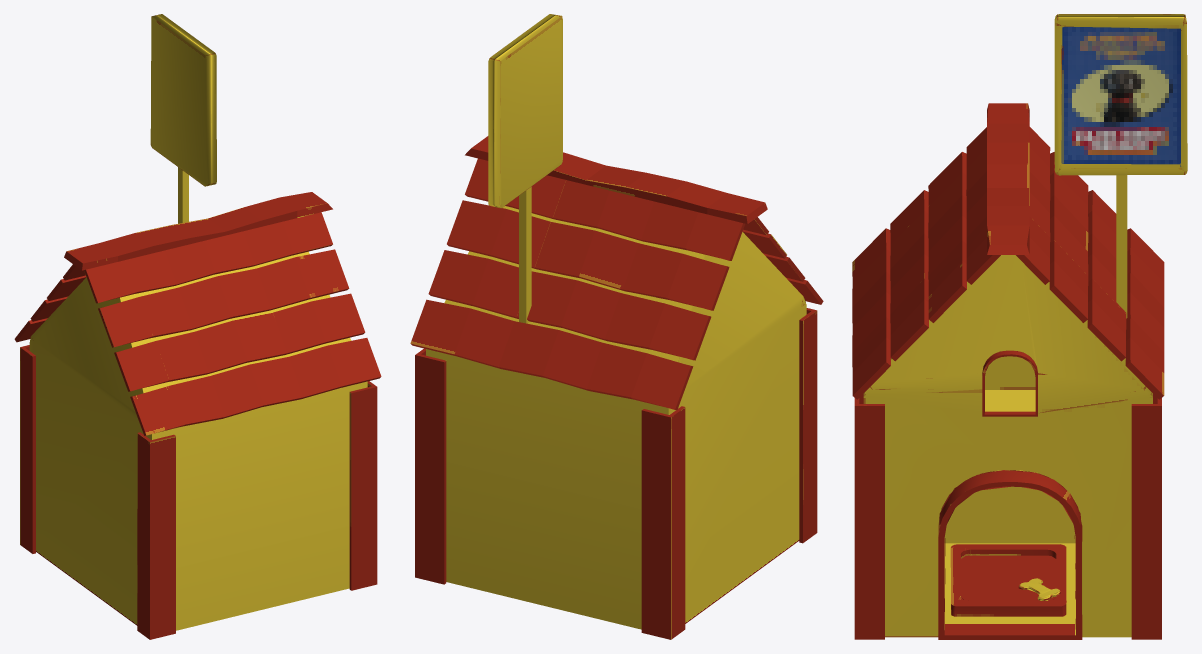
The model's file is casa perro bake.glb.
The picture shows the model from 3 angles, left to right: view 1: azimuth 30°, elevation 25°; view 2: azimuth 150°, elevation 25°; view 3: azimuth 270°, elevation 25°; orthographic projection. The views are drawn at different scales.
Visible parts, largest first — view 1: Cube.005; view 2: Cube.005; view 3: Cube.005.
Boxes of the visible parts, bbox=[...] form: Cube.005: bbox=[14, 14, 381, 639]; Cube.005: bbox=[410, 14, 823, 639]; Cube.005: bbox=[852, 14, 1187, 639].
Size of the model in its own units: 6.96 by 12.8 by 6.74.
1 material, 1 textured.
